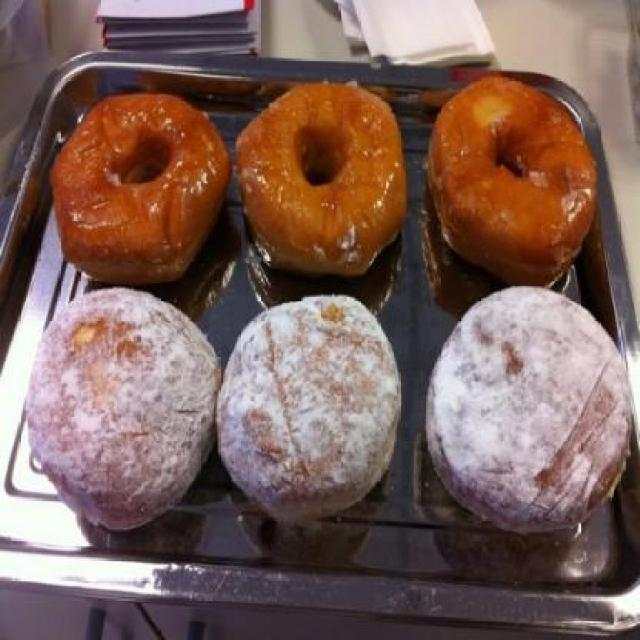Donuts: (28, 76, 636, 540)
